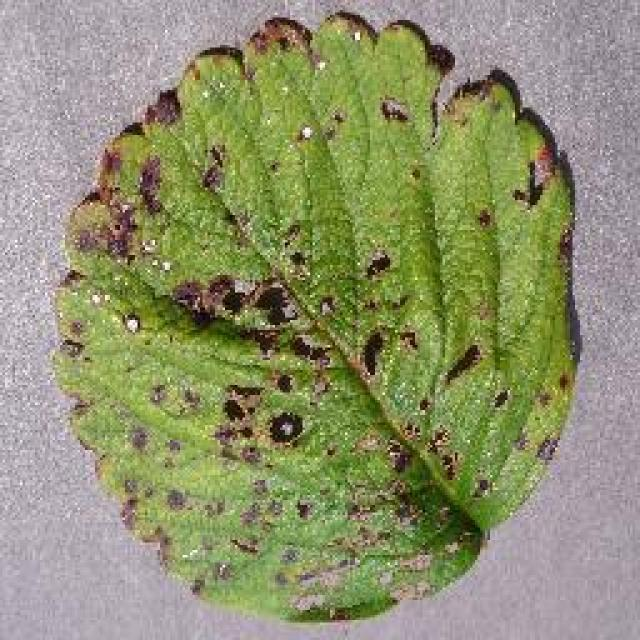Strawberry___Leaf_scorch: (16, 20, 590, 621)
